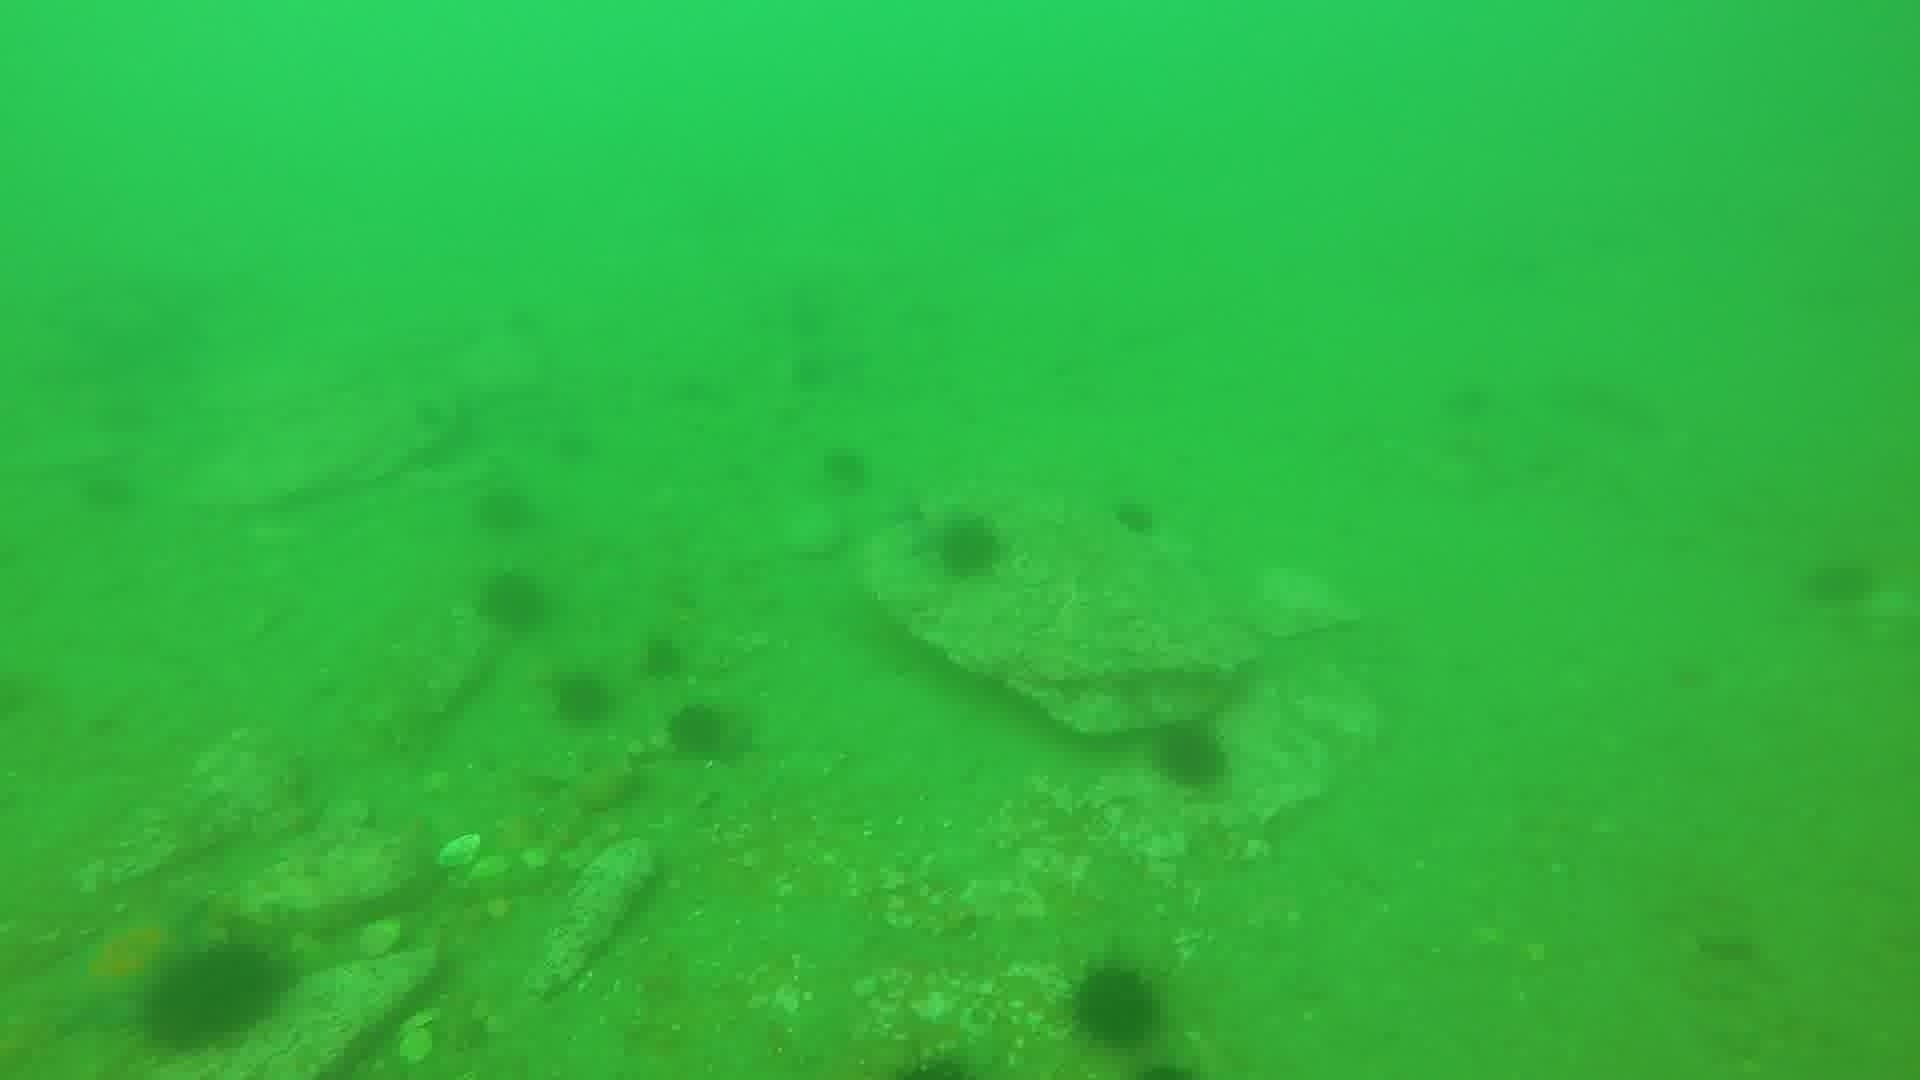echinus: (138, 935, 291, 1056), (1065, 960, 1167, 1054), (1147, 716, 1233, 795), (473, 567, 554, 638), (928, 512, 1007, 583), (662, 699, 742, 767), (1800, 553, 1880, 615), (546, 669, 618, 732), (469, 479, 541, 539), (816, 442, 876, 496), (636, 632, 691, 684), (1109, 493, 1162, 541)
starfish: (49, 893, 218, 1034)
